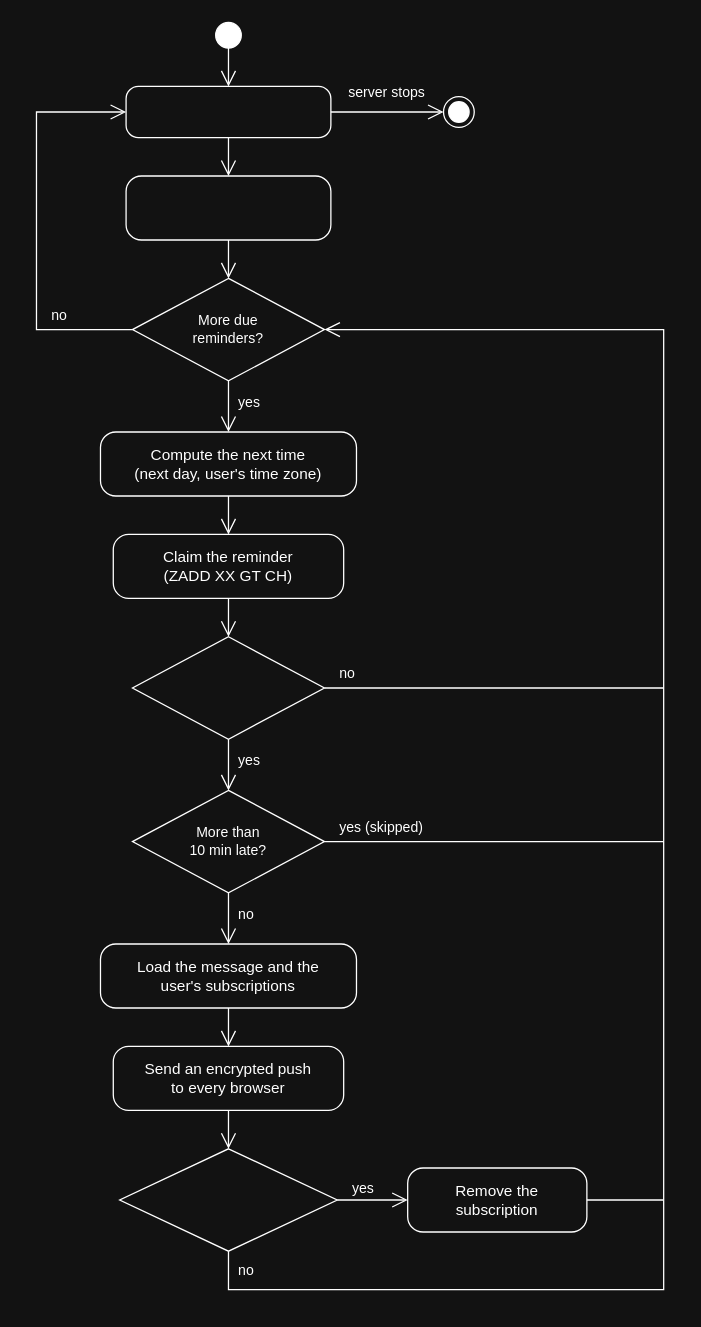
Some shapes in this 701 by 1327 pixel diagram are drawn without their labels. Each missing label, with the centre of its shape:
"Claimed by this server?" goes at (227,687).
"Push service answered 404 / 410?" goes at (227,1199).
"Read the due reminders (score <= now)" goes at (228,207).
"Wait 15 seconds" goes at (228,111).
